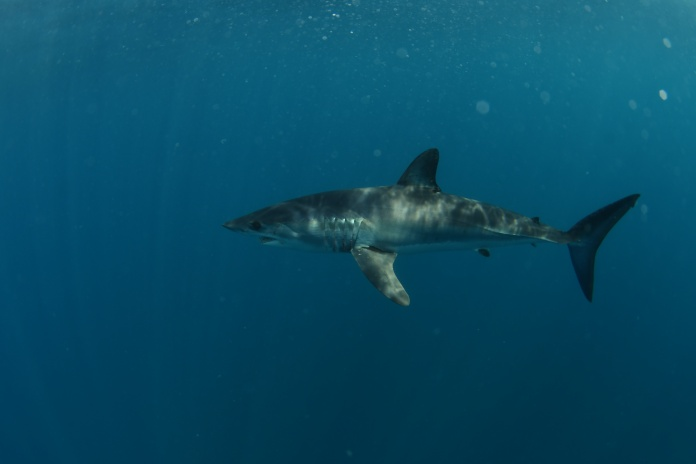Mako: (208, 143, 646, 313)
